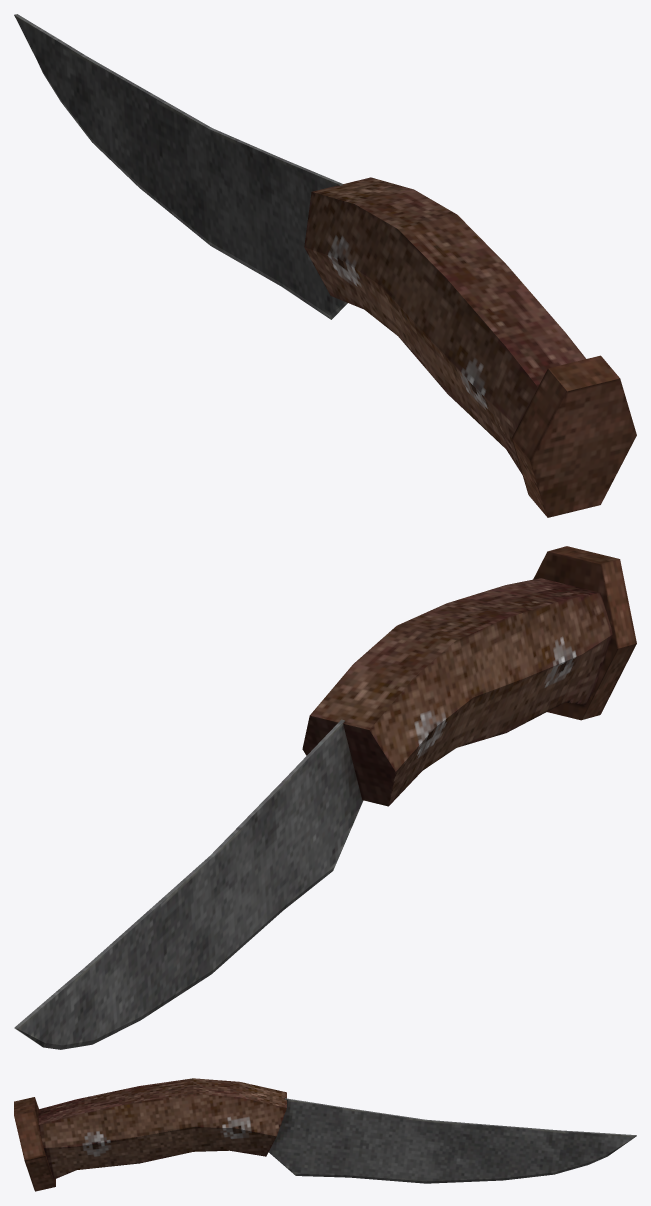
The model's file is knife-3.glb.
3 views of the same model, one above another, from view 1: azimuth 30°, elevation 25°; view 2: azimuth 150°, elevation 25°; view 3: azimuth 270°, elevation 25° (orthographic). The views are drawn at different scales.
Parts seen in each view (by area): view 1: Knife_3; view 2: Knife_3; view 3: Knife_3.
Boxes of the visible parts, <box> form: Knife_3: <box>14,14,636,517</box>; Knife_3: <box>14,546,636,1049</box>; Knife_3: <box>14,1078,636,1191</box>.
Bounding box in the file's own units: 0.3944 × 0.6483 × 3.71.
1 material, 1 textured.
